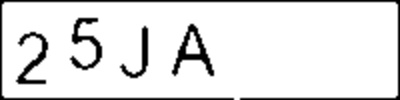2: (13, 29, 53, 88)
5: (66, 14, 107, 73)
A: (168, 21, 217, 80)
J: (116, 24, 154, 81)
